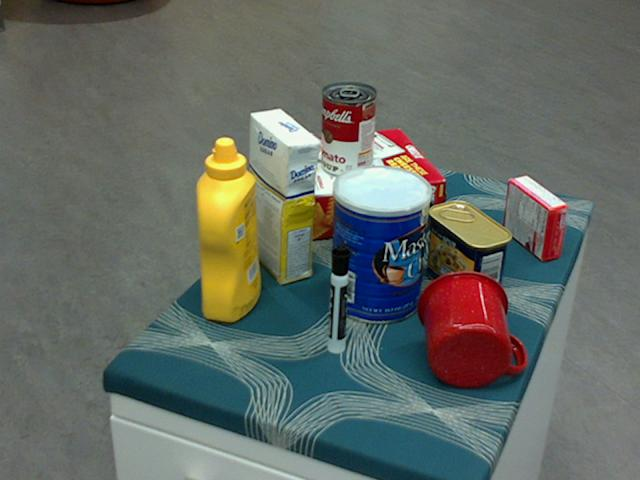cracker_box: (249, 127, 445, 247)
gelatin_box: (504, 175, 569, 261)
large_marker: (327, 245, 348, 355)
master_chef_can: (331, 164, 432, 324)
mug: (417, 269, 525, 387)
mustard_bottle: (195, 137, 261, 323)
potted_meat_can: (427, 201, 513, 306)
sugar_box: (248, 109, 318, 286)
tomato_soup_can: (321, 82, 376, 178)
tuna_fish_can: (362, 172, 435, 244)
